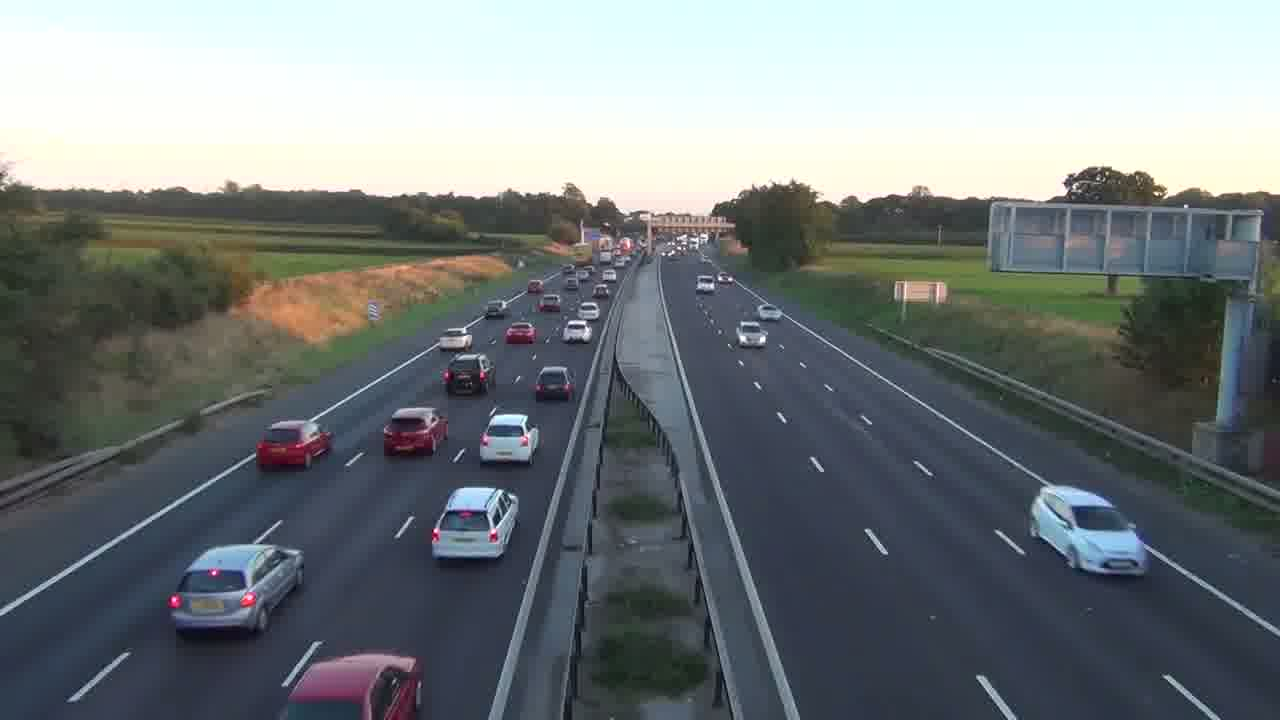car: (166, 542, 305, 636), (1026, 484, 1151, 578), (279, 640, 425, 719), (431, 485, 520, 563), (255, 418, 334, 471), (479, 412, 544, 466), (382, 404, 449, 456), (442, 353, 494, 396), (533, 365, 576, 402), (736, 320, 768, 348), (437, 328, 473, 352), (562, 319, 593, 344), (504, 321, 536, 345)
